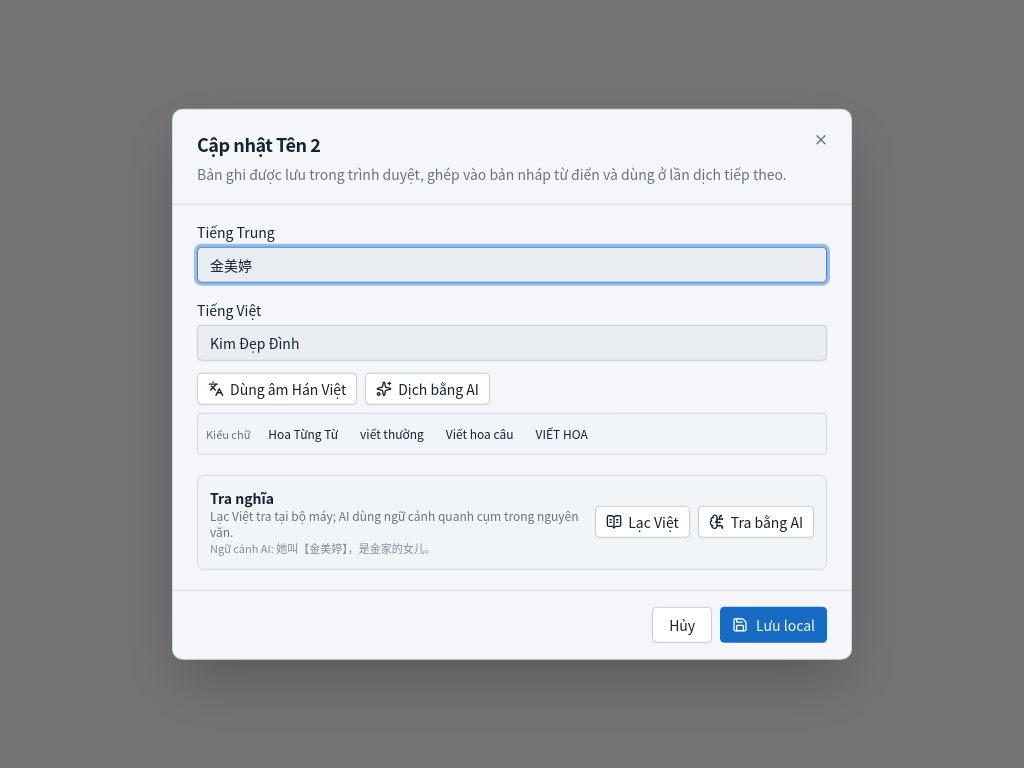
it: dictionary update utilities › shows Lạc Việt meanings inside the dialog
This screenshot has width=1024, height=768.
Expected: the field showing "Kim Đẹp Đình" is shown, [197,325,827,361]
Click the button "Lạc Việt" at (642,522), box [595,506,690,538]
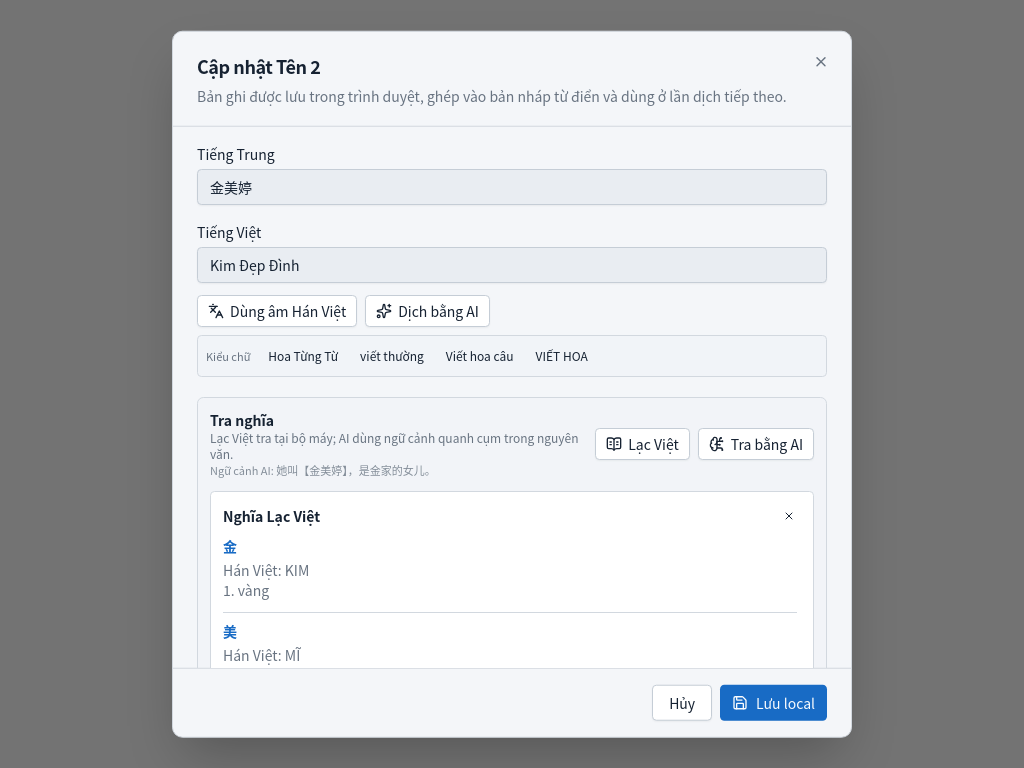
Result: the text "Nghĩa Lạc Việt" is shown at [223,505,320,525]
Result: the text "Hán Việt: KIM 1. vàng" is shown at [223,559,309,599]
Result: the button named "Đóng kết quả tra nghĩa" is shown at [777,503,801,527]
